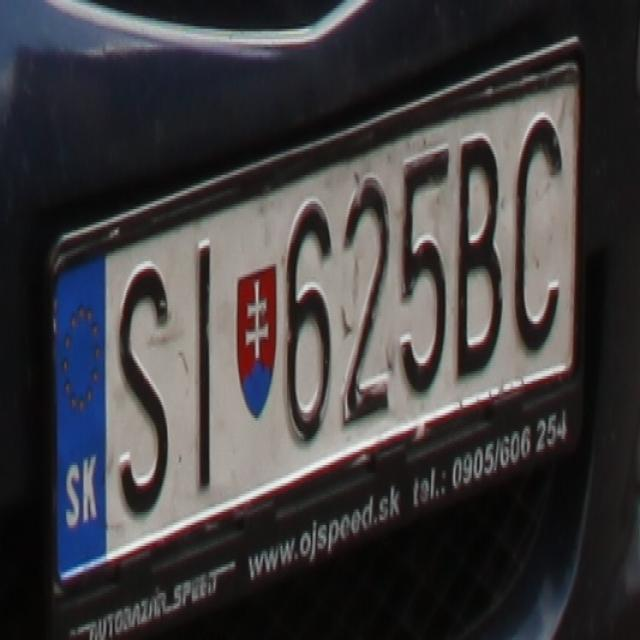2: (342, 165, 392, 423)
5: (400, 146, 449, 397)
6: (285, 196, 335, 447)
B: (455, 131, 504, 384)
C: (511, 107, 562, 353)
S: (114, 261, 174, 512)
